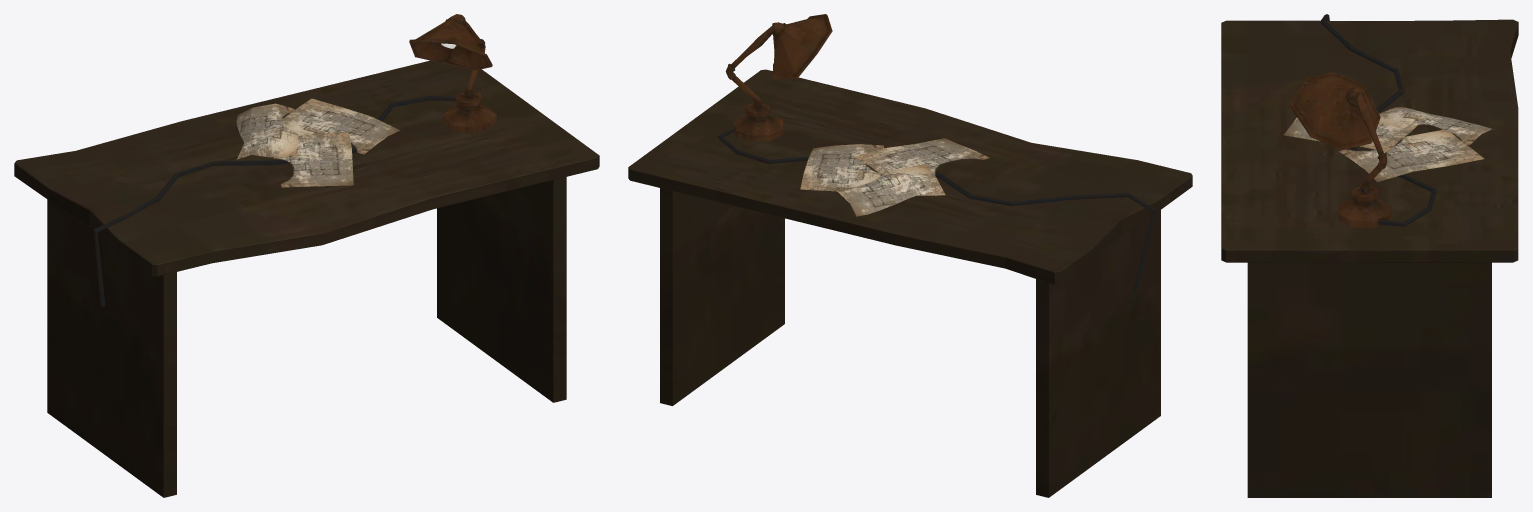
3 renders of one model, left to right at view 1: azimuth 30°, elevation 25°; view 2: azimuth 150°, elevation 25°; view 3: azimuth 270°, elevation 25°, orthographic. The views are drawn at different scales.
Visible parts, largest first — view 1: Plane; view 2: Plane; view 3: Plane.
Boxes of the visible parts, box(x1,y1,x2,y2) form: Plane: box(14, 14, 599, 497); Plane: box(628, 14, 1192, 497); Plane: box(1221, 14, 1518, 497).
Size of the model in its own units: 11.39 by 8.57 by 6.1.
Materials: 3 (3 with a texture image).
